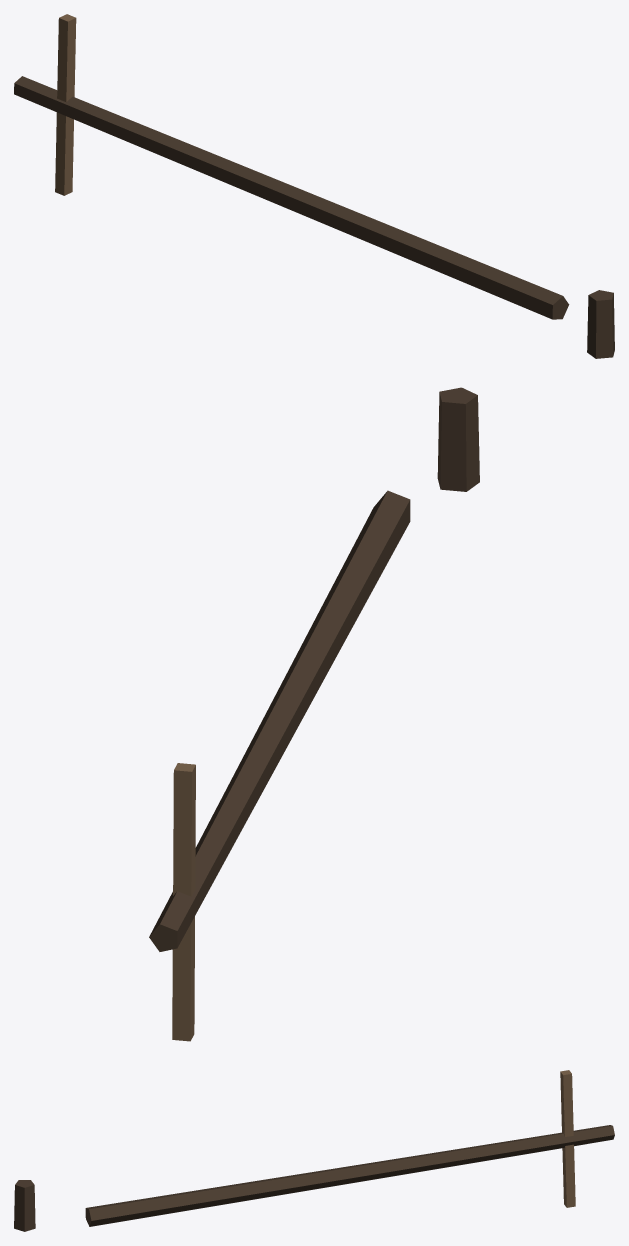
The model's file is power_pole_fallen_lod1.glb.
The picture shows the model from 3 angles, top to bottom: view 1: azimuth 30°, elevation 25°; view 2: azimuth 150°, elevation 25°; view 3: azimuth 270°, elevation 25°; orthographic projection. The views are drawn at different scales.
Visible parts, largest first — view 1: power_pole_fallen_lod1; view 2: power_pole_fallen_lod1; view 3: power_pole_fallen_lod1.
Boxes of the visible parts, box(x1,y1,x2,y2) form: power_pole_fallen_lod1: box(14, 14, 614, 358); power_pole_fallen_lod1: box(149, 387, 479, 1041); power_pole_fallen_lod1: box(14, 1070, 614, 1231).
Bounding box in the file's own units: 2.81 × 2.2 × 8.99.
1 material, 1 textured.
